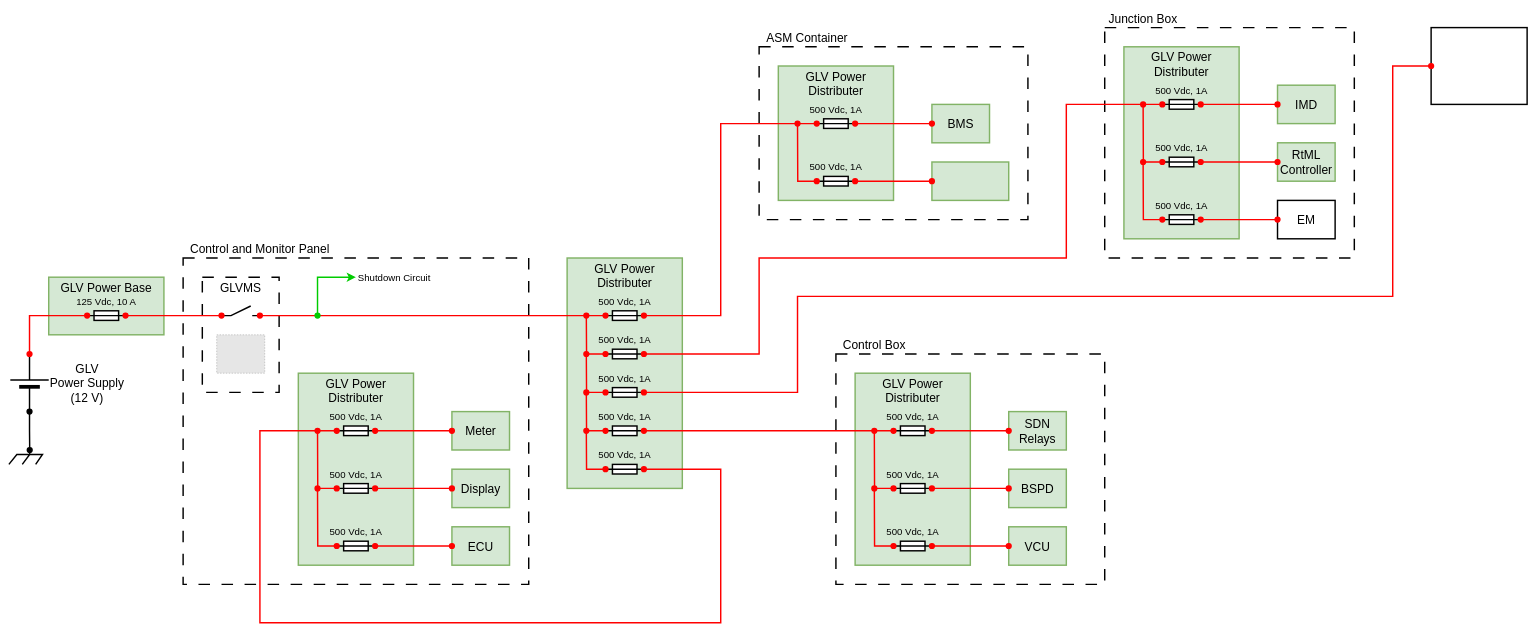
Image size: 1536x638. Some labels were removed from this diagram. Grey dashed boxes stand in for pictures. Each missing label, with the centre of its shape:
"Inverter" goes at pixel 1479 66.
"Precharge Controller" goes at pixel 970 181.
